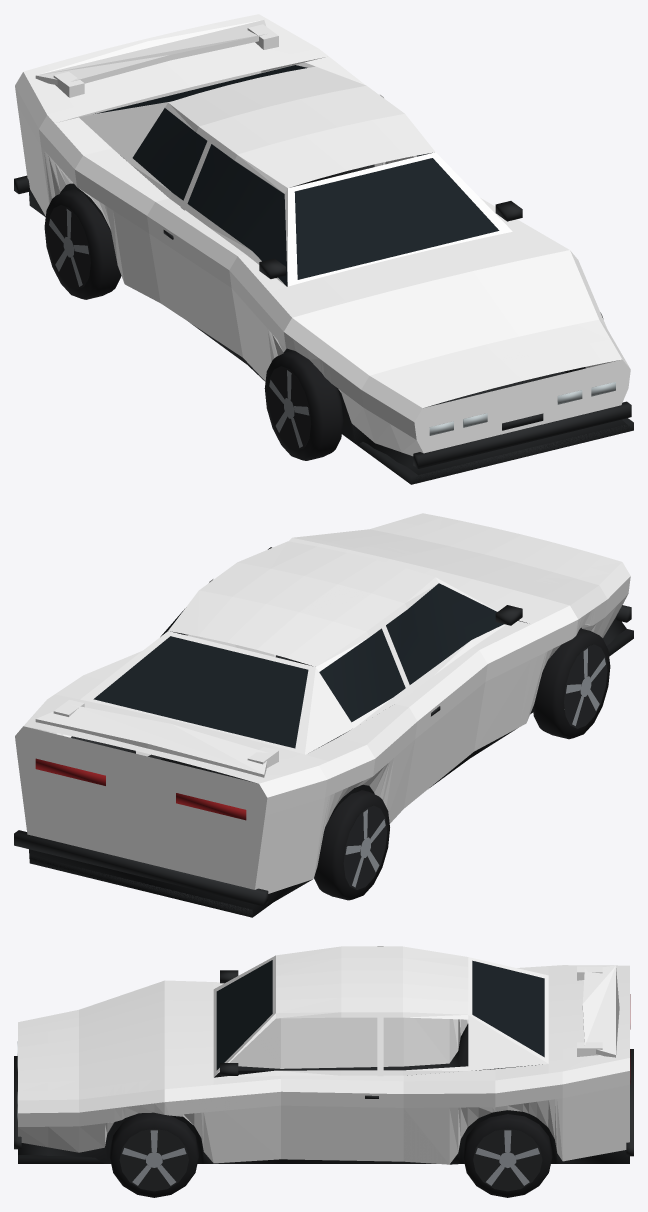
Rendered from rauhe_rutilo.glb.
3 renders of one model, top to bottom at view 1: azimuth 30°, elevation 25°; view 2: azimuth 150°, elevation 25°; view 3: azimuth 270°, elevation 25°, orthographic. The views are drawn at different scales.
Parts seen in each view (by area): view 1: Body_Paint, Body_Details, Mount_FrontLeft_Wheel_Details, Mount_RearLeft_Wheel_Details; view 2: Body_Paint, Body_Details, Mount_FrontLeft_Wheel_Details, Mount_RearLeft_Wheel_Details; view 3: Body_Paint, Body_Details, Mount_FrontRight_Wheel_Details, Mount_RearRight_Wheel_Details.
Part boxes in pixels (bbox=[...]): Body_Paint: bbox=[15, 14, 630, 456]; Body_Details: bbox=[14, 65, 633, 484]; Mount_FrontLeft_Wheel_Details: bbox=[264, 350, 343, 460]; Mount_RearLeft_Wheel_Details: bbox=[44, 189, 121, 299]; Body_Paint: bbox=[15, 513, 630, 893]; Body_Details: bbox=[14, 547, 633, 917]; Mount_FrontLeft_Wheel_Details: bbox=[533, 628, 610, 739]; Mount_RearLeft_Wheel_Details: bbox=[314, 790, 389, 900]; Body_Paint: bbox=[18, 946, 629, 1164]; Body_Details: bbox=[14, 960, 633, 1164]; Mount_FrontRight_Wheel_Details: bbox=[109, 1112, 198, 1197]; Mount_RearRight_Wheel_Details: bbox=[463, 1114, 552, 1197].
Bounding box in the file's own units: 1.97 × 1.29 × 4.39.
2 materials, 1 textured.
